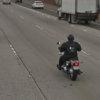Motorcycle: (48, 27, 84, 85)
